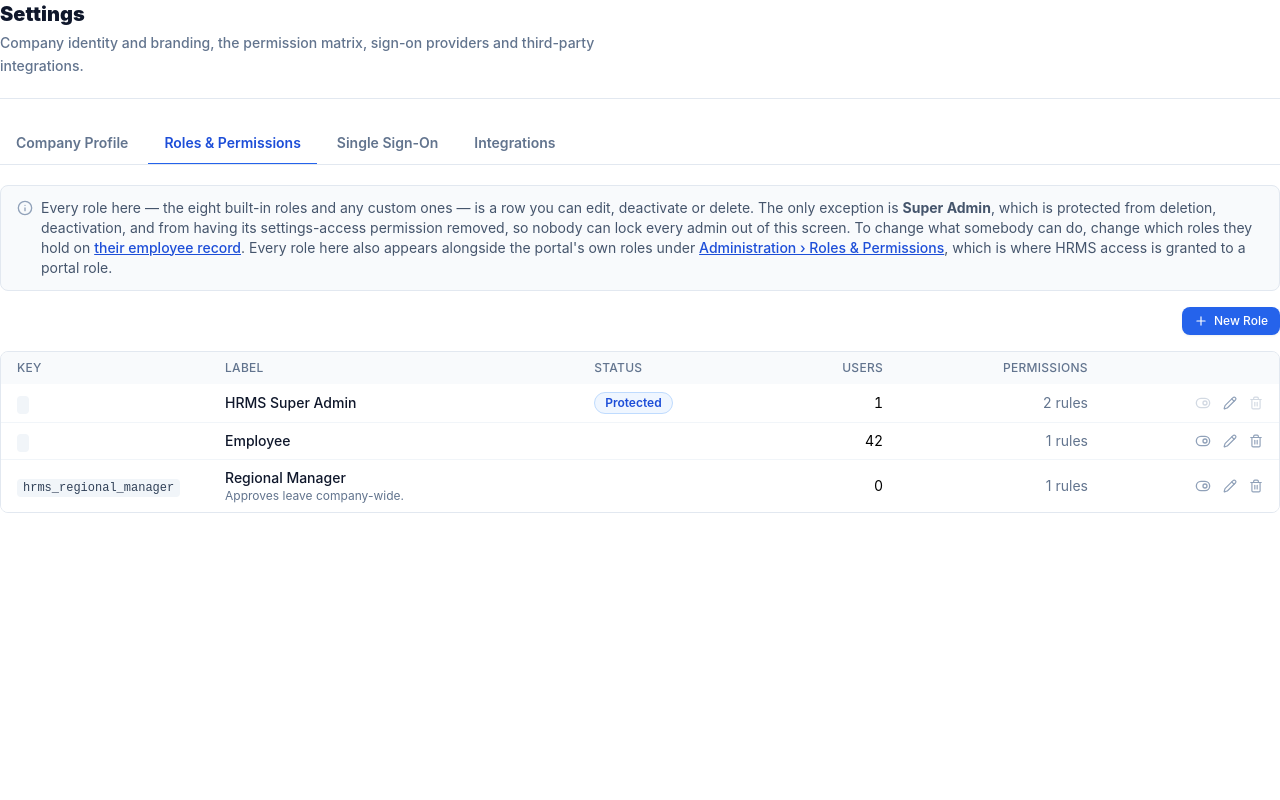
it: roles and permissions › filters the module list without touching what is already ticked
Expected: the text "Regional Manager" is shown, [225,468,346,486]
Click the button "New Role". click: (1231, 320)
box: [1182,306,1279,334]
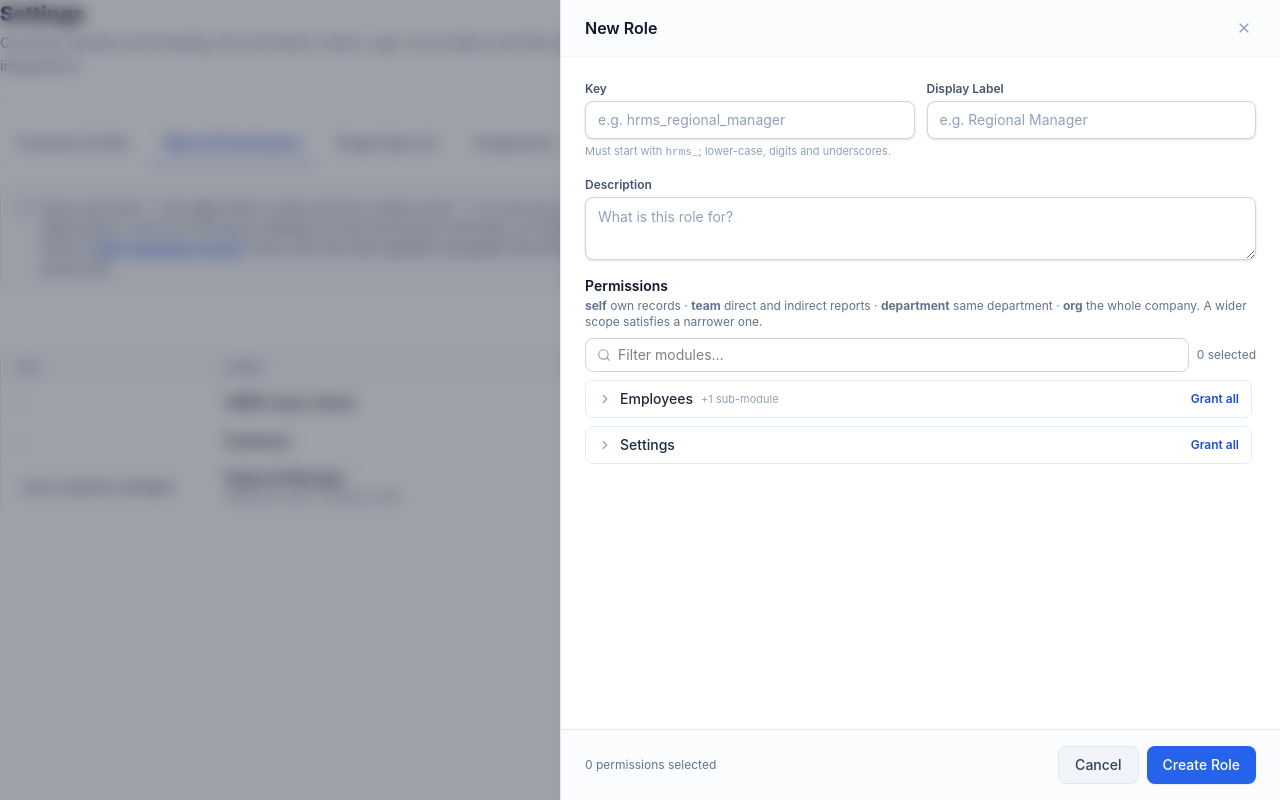
Type "settings" into the search field labelled "Filter modules…". click: (887, 355)
box: [585,338,1189,372]
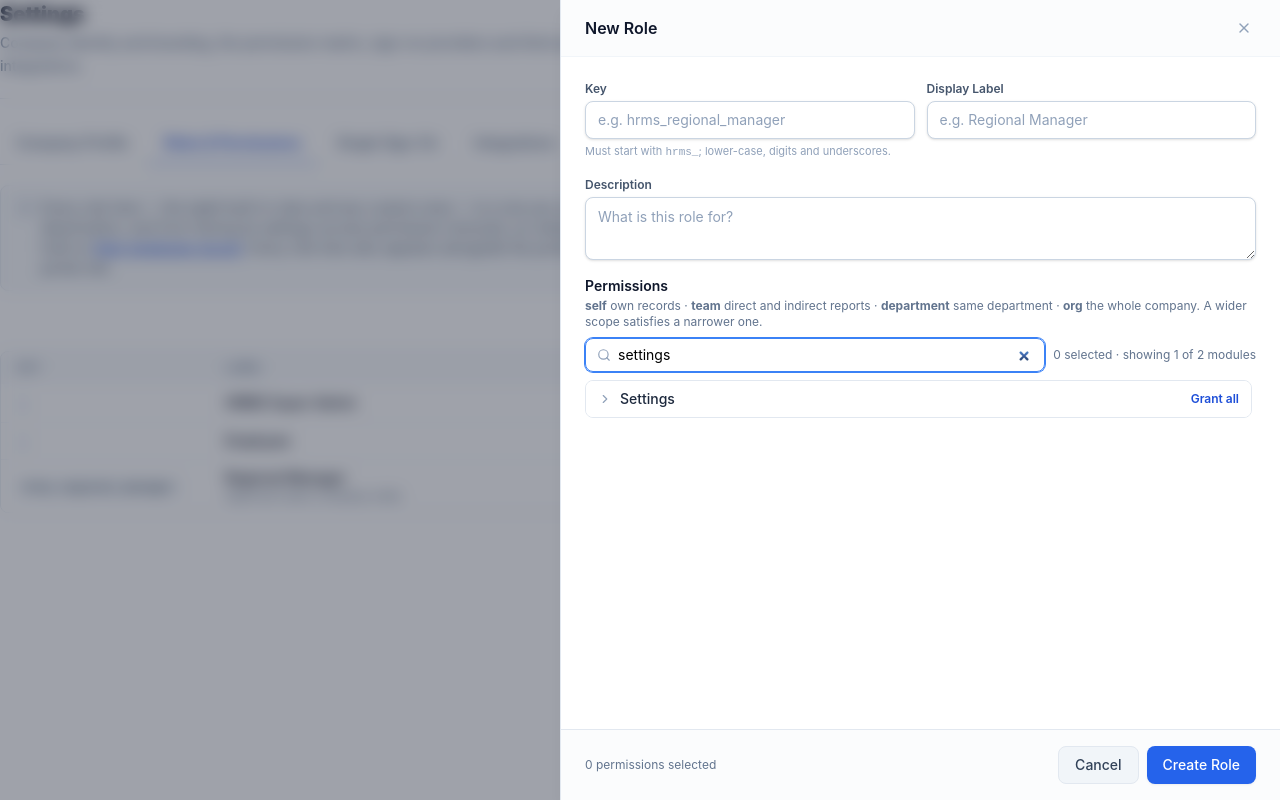
Expected: the button "Employees" no longer shows "Employees"
